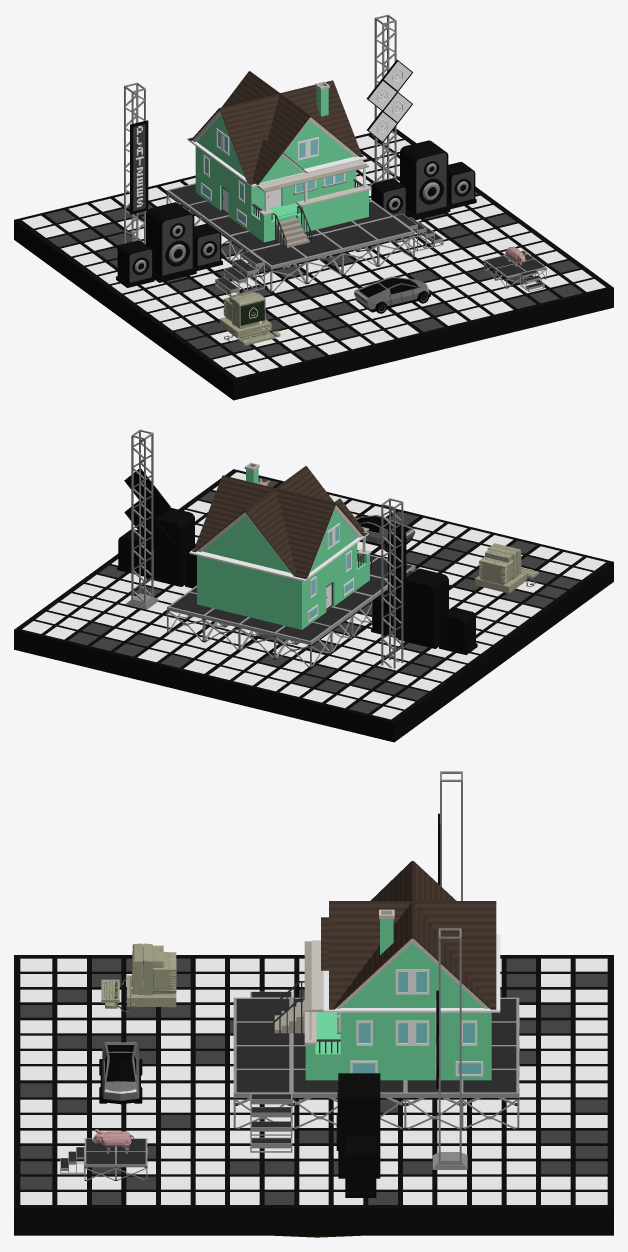
The picture shows the model from 3 angles, top to bottom: view 1: azimuth 30°, elevation 25°; view 2: azimuth 150°, elevation 25°; view 3: azimuth 270°, elevation 25°; orthographic projection. The views are drawn at different scales.
Parts seen in each view (by area): view 1: Cube.008, Cube.352, OBJRANDOM_RETRO_PC, VEHICLES_CYBERTRUCK; view 2: Cube.008, Cube.352, OBJRANDOM_RETRO_PC, VEHICLES_CYBERTRUCK; view 3: Cube.008, Cube.352, OBJRANDOM_RETRO_PC, VEHICLES_CYBERTRUCK, ANIMAL_CERDO.
Part boxes in pixels (left/top/right/bottom): Cube.008: left=14, top=14, right=613, bottom=400; Cube.352: left=187, top=71, right=371, bottom=248; OBJRANDOM_RETRO_PC: left=219, top=291, right=280, bottom=345; VEHICLES_CYBERTRUCK: left=354, top=276, right=430, bottom=313; Cube.008: left=14, top=429, right=613, bottom=742; Cube.352: left=189, top=462, right=372, bottom=629; OBJRANDOM_RETRO_PC: left=475, top=543, right=538, bottom=593; VEHICLES_CYBERTRUCK: left=355, top=515, right=415, bottom=552; Cube.008: left=14, top=771, right=613, bottom=1235; Cube.352: left=272, top=861, right=500, bottom=1080; OBJRANDOM_RETRO_PC: left=101, top=943, right=176, bottom=1012; VEHICLES_CYBERTRUCK: left=99, top=1042, right=142, bottom=1104; ANIMAL_CERDO: left=92, top=1129, right=133, bottom=1153.
Bounding box in the file's own units: 4000 × 2038 × 4000.
Materials: 40 (1 with a texture image).
